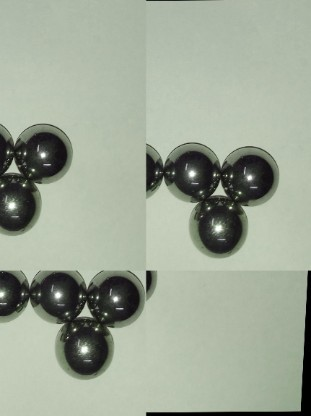ironball: (12, 120, 84, 187), (189, 191, 248, 261), (55, 318, 116, 382), (165, 138, 221, 206), (223, 145, 284, 204), (30, 268, 89, 325), (0, 176, 56, 234), (88, 270, 143, 326), (0, 266, 29, 337), (144, 131, 163, 204), (0, 120, 18, 176)
